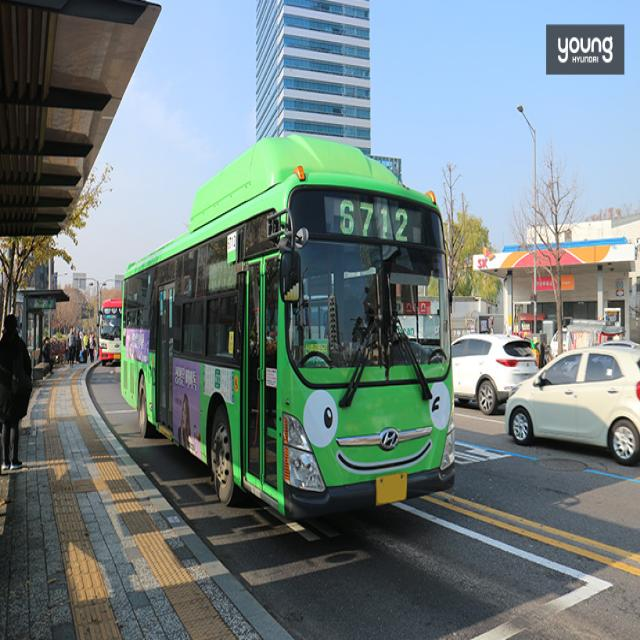bus-number: (340, 198, 408, 244)
